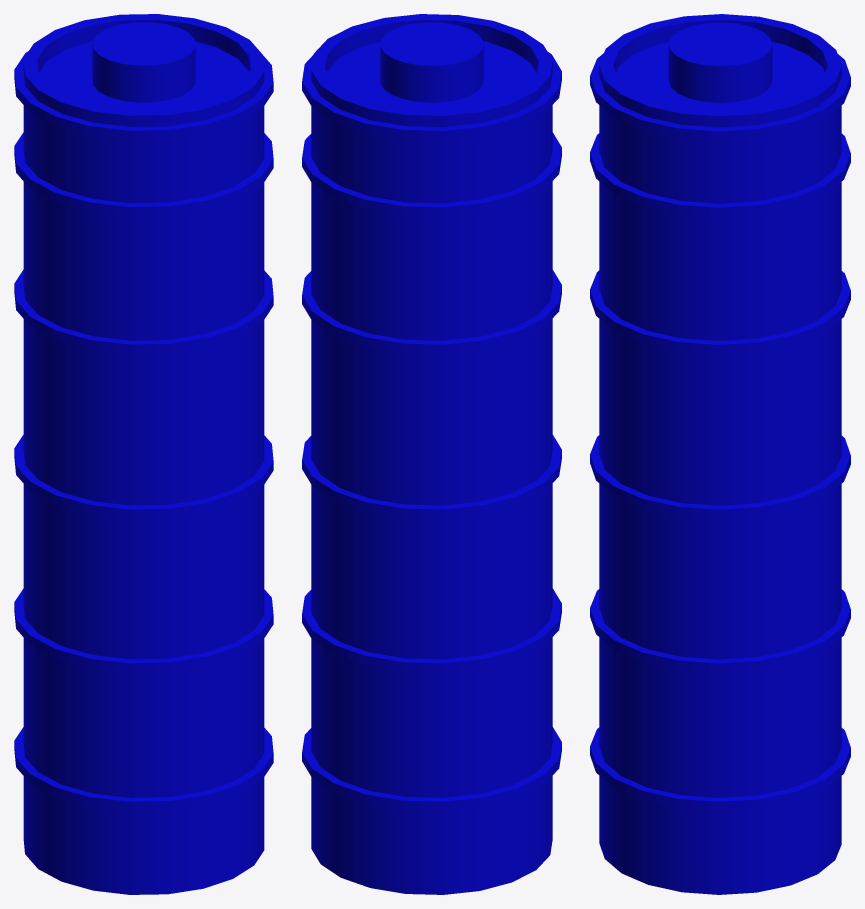
3 views of the same model, side by side, from view 1: azimuth 30°, elevation 25°; view 2: azimuth 150°, elevation 25°; view 3: azimuth 270°, elevation 25° (orthographic).
Visible parts, largest first — view 1: B1_LowRes; view 2: B1_LowRes; view 3: B1_LowRes.
Part boxes in pixels (left/top/right/bottom): B1_LowRes: left=14, top=14, right=273, bottom=894; B1_LowRes: left=302, top=14, right=561, bottom=894; B1_LowRes: left=590, top=14, right=850, bottom=894.
Bounding box in the file's own units: 615 × 2081 × 615.
